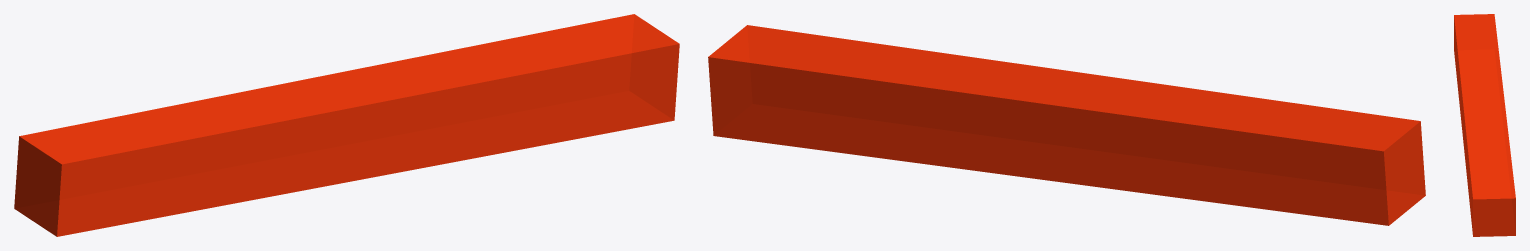
Rendered from Event_420107950_EErechit_73.fbx.
3 renders of one model, left to right at view 1: azimuth 30°, elevation 25°; view 2: azimuth 150°, elevation 25°; view 3: azimuth 270°, elevation 25°, orthographic. The views are drawn at different scales.
Visible parts, largest first — view 1: Model; view 2: Model; view 3: Model.
Part boxes in pixels (x1,y1,x2,y2): Model: (14, 14, 679, 236); Model: (708, 25, 1425, 225); Model: (1454, 14, 1515, 236).
Size of the model in its own units: 0.6849 by 0.1259 by 0.1108.
